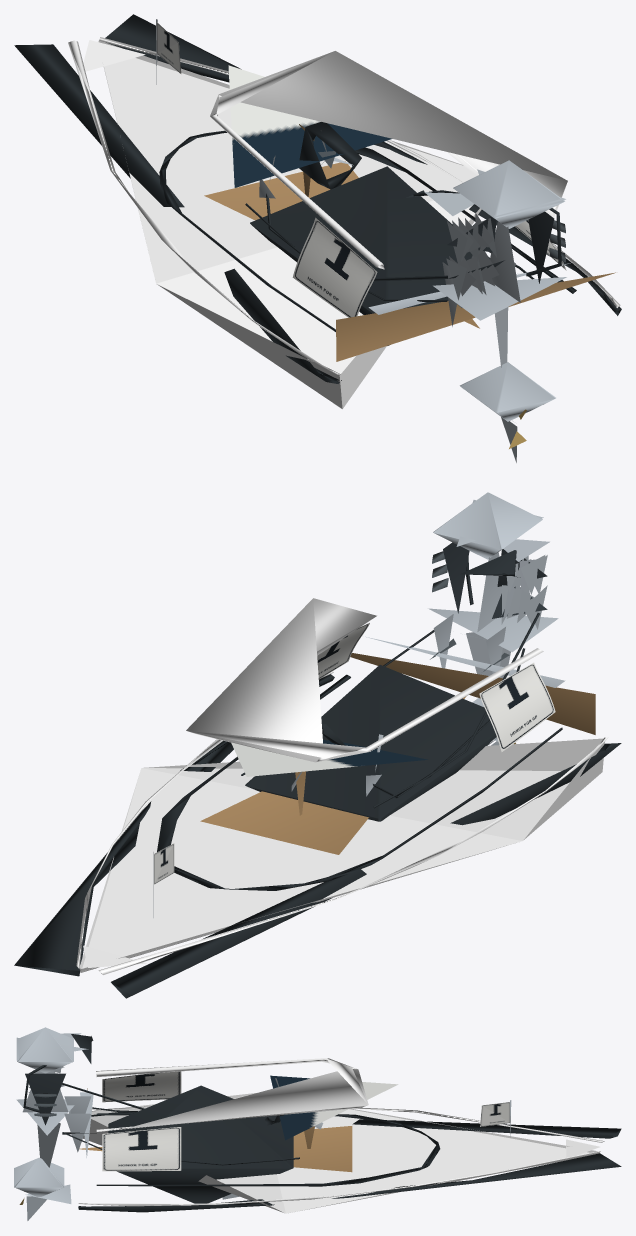
Rendered from boat_lod2.glb.
3 renders of one model, top to bottom at view 1: azimuth 30°, elevation 25°; view 2: azimuth 150°, elevation 25°; view 3: azimuth 270°, elevation 25°, orthographic. The views are drawn at different scales.
Visible parts, largest first — view 1: BoatMesh, MotorMesh; view 2: BoatMesh, MotorMesh; view 3: BoatMesh, MotorMesh.
Boxes of the visible parts, x1,y1,x2,y2 form: BoatMesh: (14, 14, 621, 408); MotorMesh: (406, 160, 566, 462); BoatMesh: (14, 598, 621, 998); MotorMesh: (428, 492, 558, 745); BoatMesh: (62, 1058, 621, 1213); MotorMesh: (14, 1027, 93, 1220).
Bounding box in the file's own units: 1.59 × 1.2 × 3.38.
Materials: 4 (2 with a texture image).
